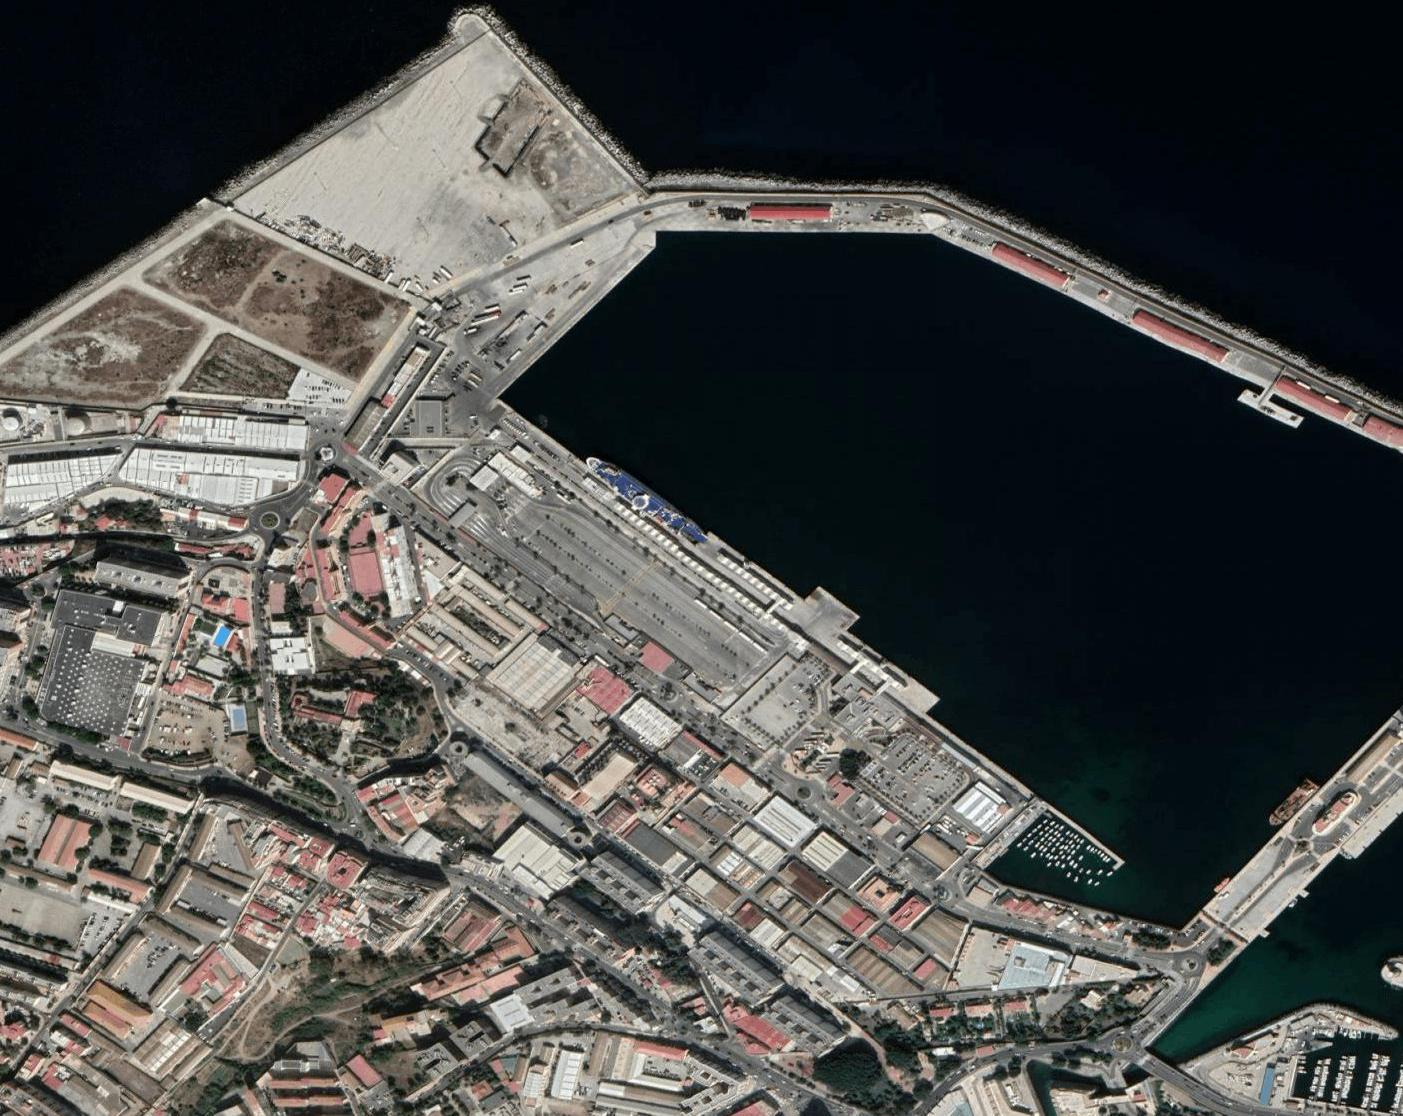harbor: (35, 25, 1403, 1014)
